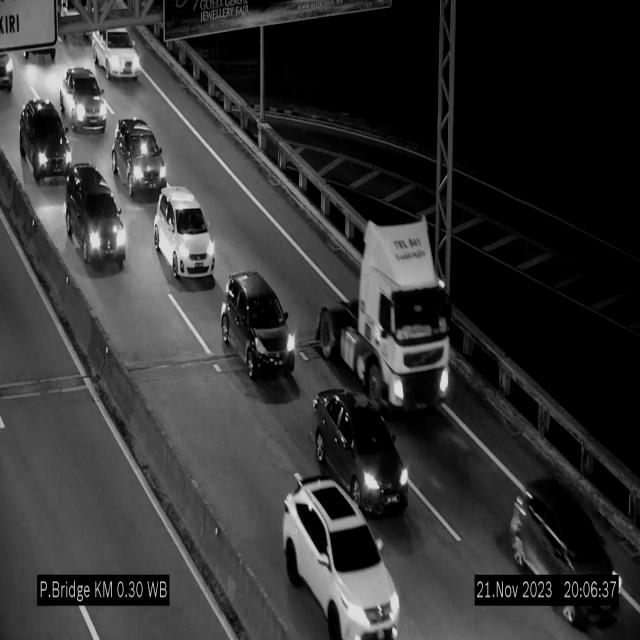Car: (491, 466, 626, 640), (283, 476, 400, 640), (311, 389, 410, 518), (221, 270, 295, 380), (61, 164, 132, 278), (153, 186, 214, 281), (14, 96, 74, 183), (53, 65, 113, 147), (114, 118, 167, 196), (93, 28, 140, 82), (0, 48, 19, 91)
Truck: (320, 204, 450, 426)
